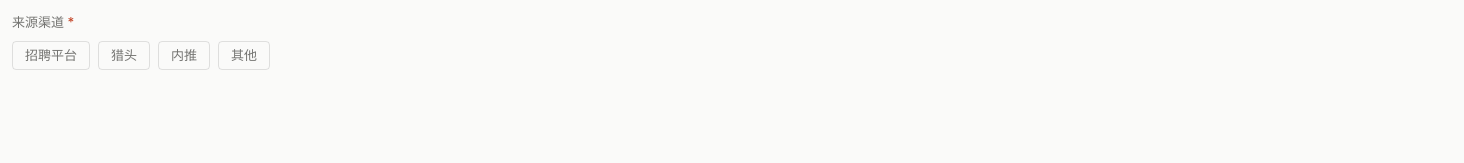
Test: SourceChannelPicker › 无猎头时显示暂无猎头
Click the button with class "channel-tab" showing "猎头".
click(124, 55)  # box [98, 40, 150, 70]
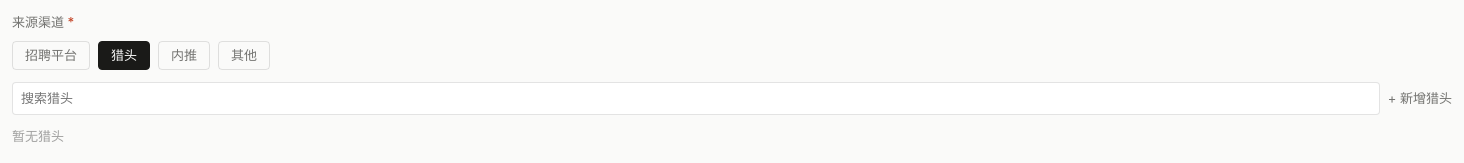
Check: the text "暂无猎头" is shown, box [12, 127, 64, 146]
